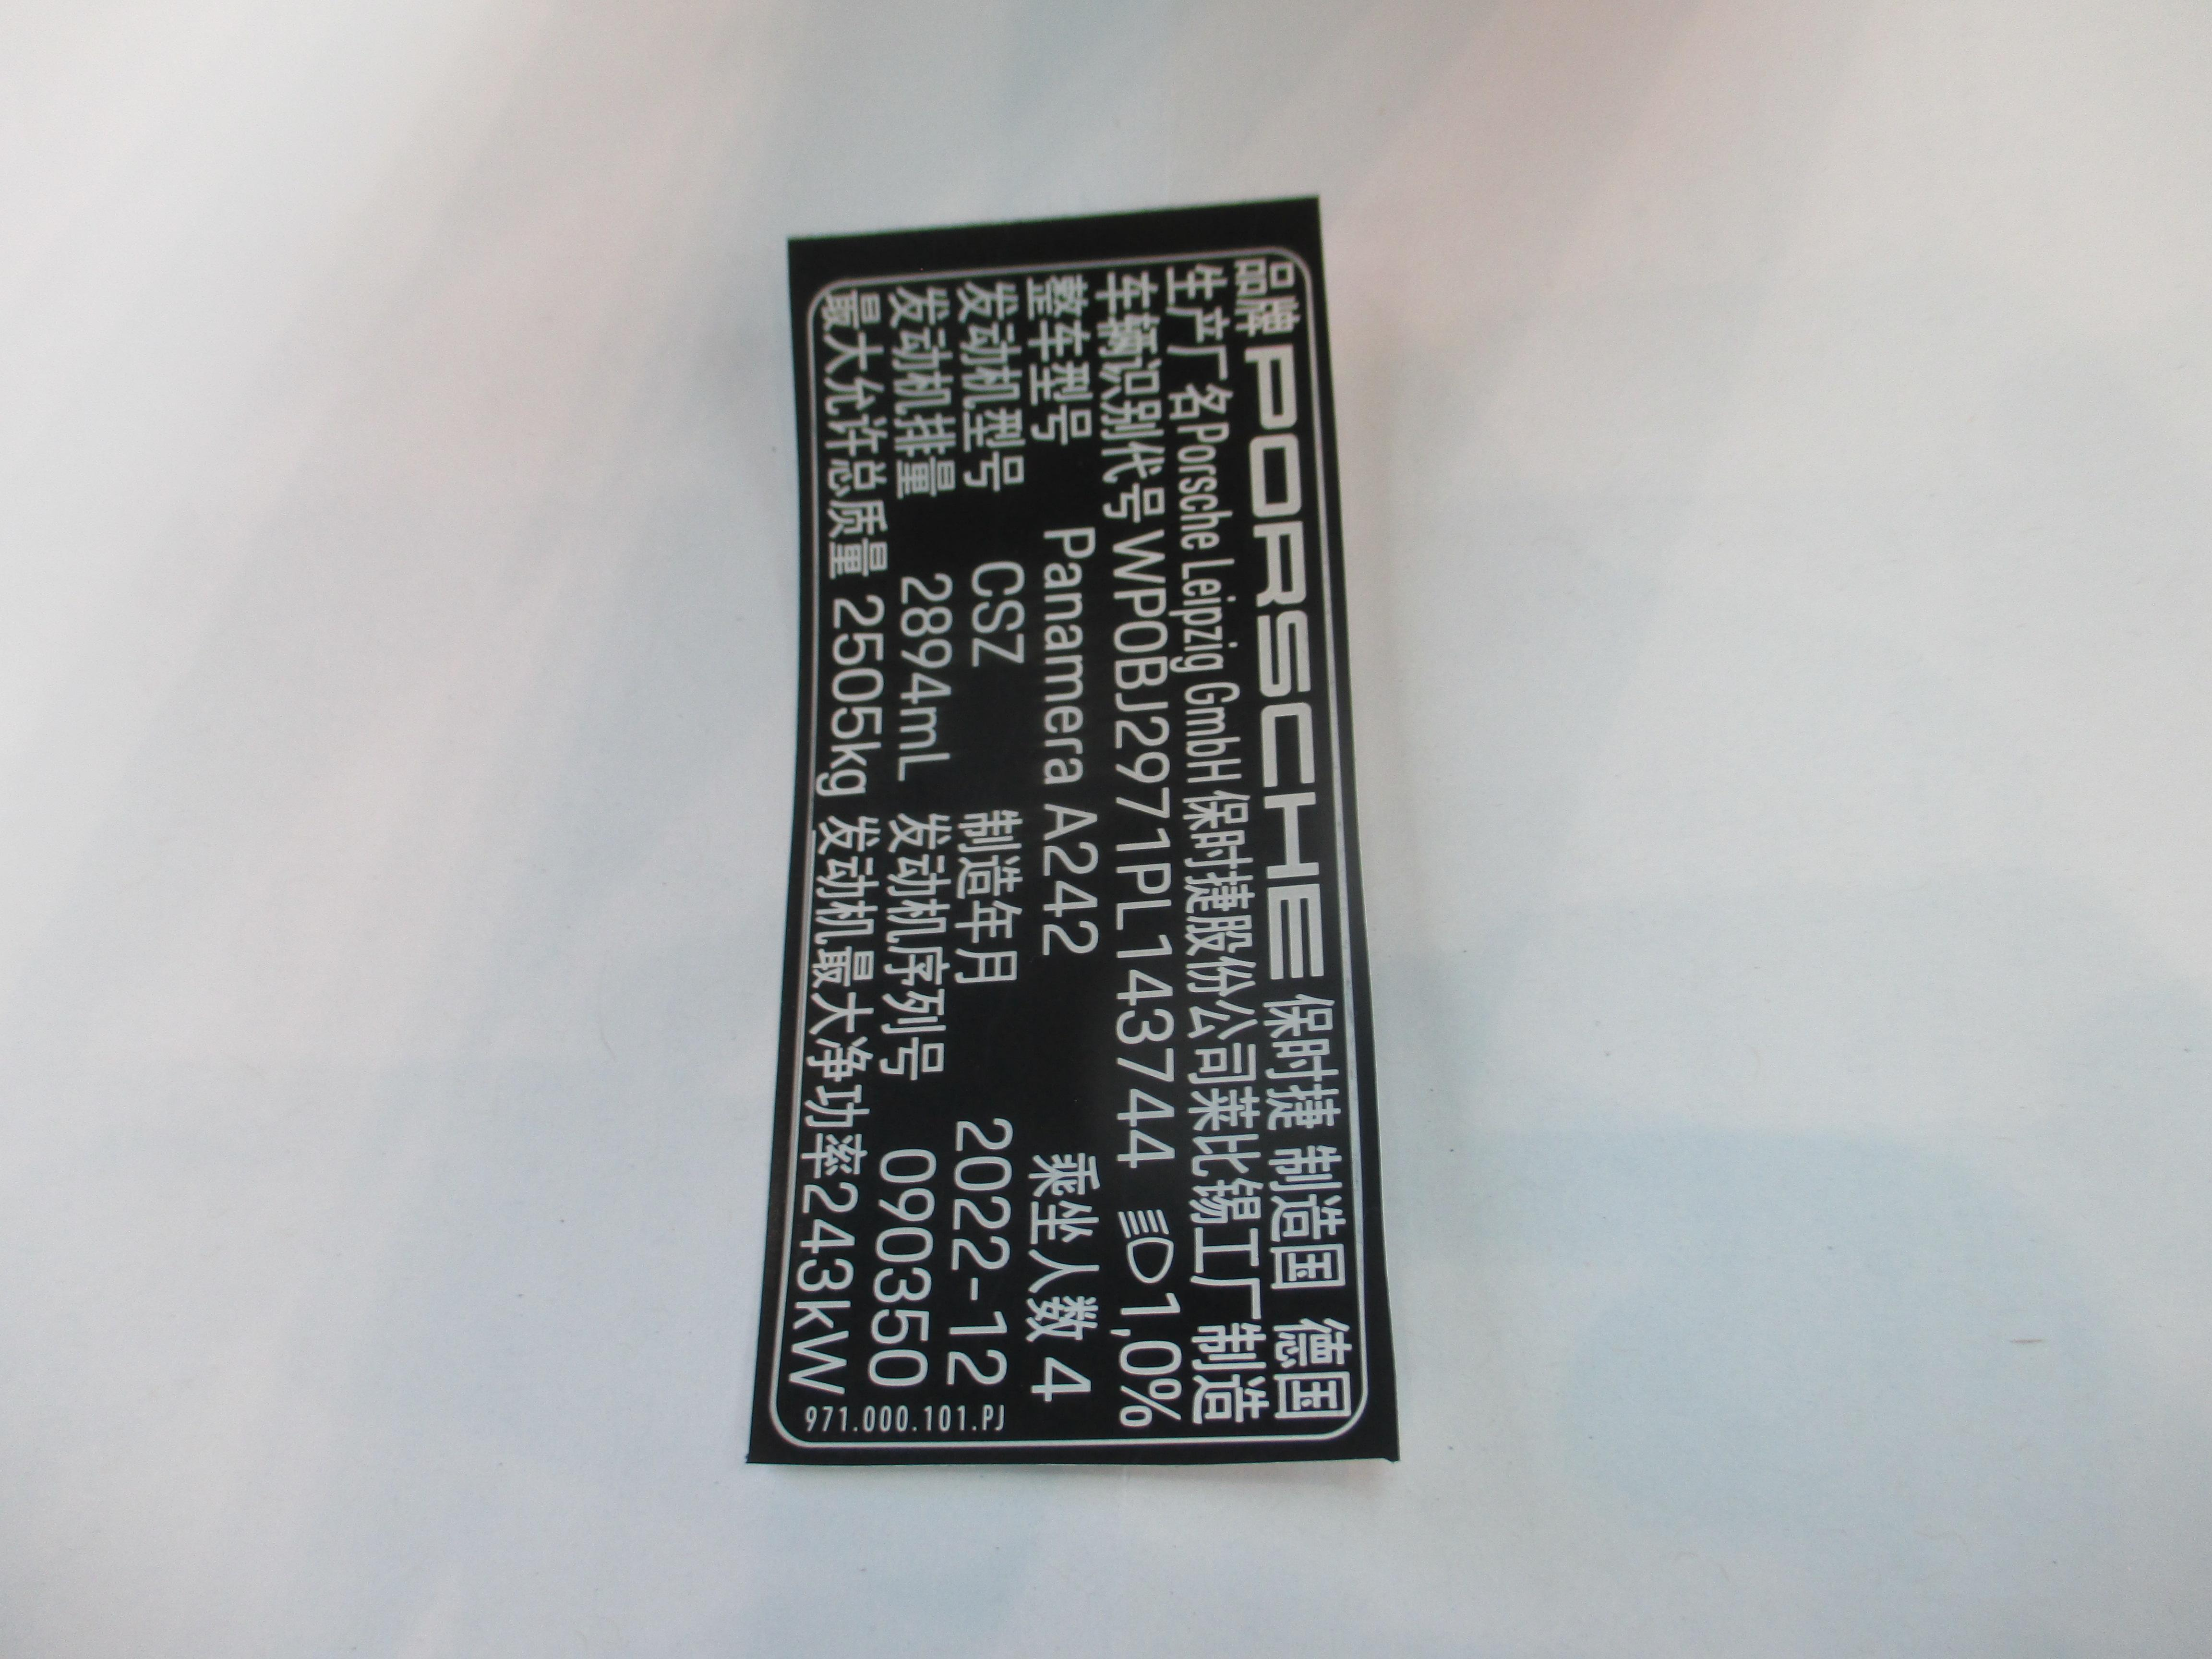Typlabel-China: (777, 254, 1360, 1439)
